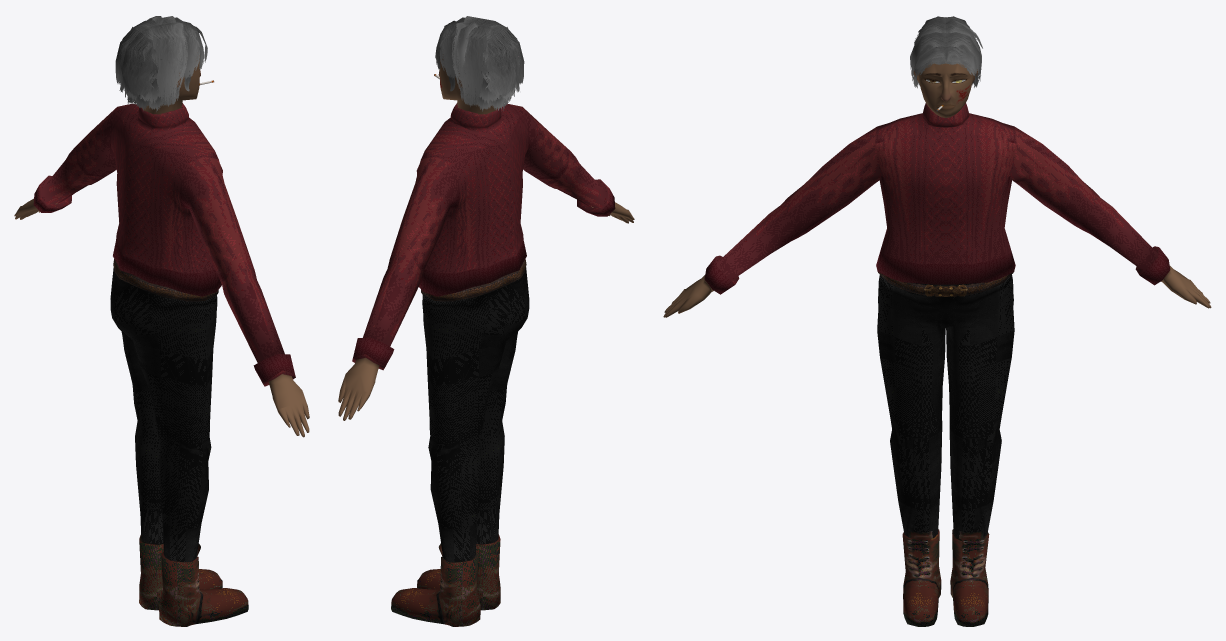
The model's file is lucy2.glb.
The picture shows the model from 3 angles, left to right: view 1: azimuth 30°, elevation 25°; view 2: azimuth 150°, elevation 25°; view 3: azimuth 270°, elevation 25°; orthographic projection. The views are drawn at different scales.
Visible parts, largest first — view 1: Torso, Hair, Head; view 2: Torso, Hair, Head; view 3: Torso, Hair, Head.
Boxes of the visible parts, x1,y1,x2,y2 form: Torso: (14, 103, 309, 626); Hair: (115, 16, 207, 111); Head: (142, 55, 200, 114); Torso: (338, 103, 634, 626); Hair: (435, 16, 524, 111); Head: (438, 53, 497, 114); Torso: (663, 103, 1211, 626); Hair: (910, 16, 982, 88); Head: (913, 62, 977, 117).
Size of the model in its own units: 2.29 by 10.97 by 9.49.
Materials: 4 (4 with a texture image).
